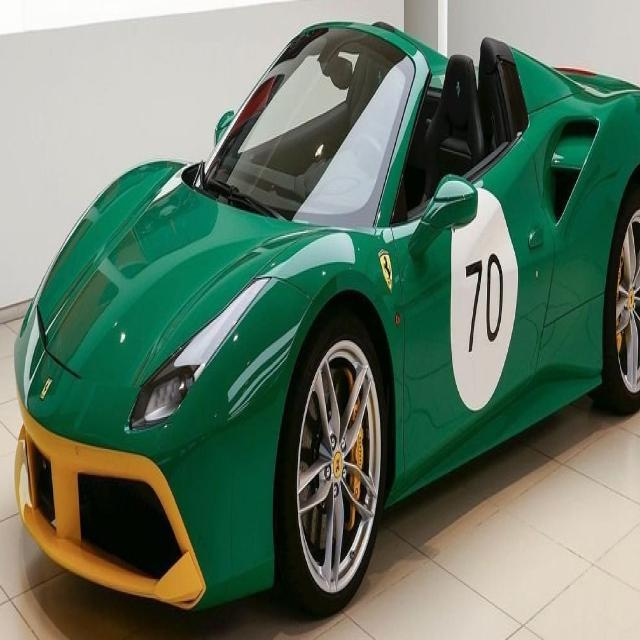green: (13, 18, 640, 615)
